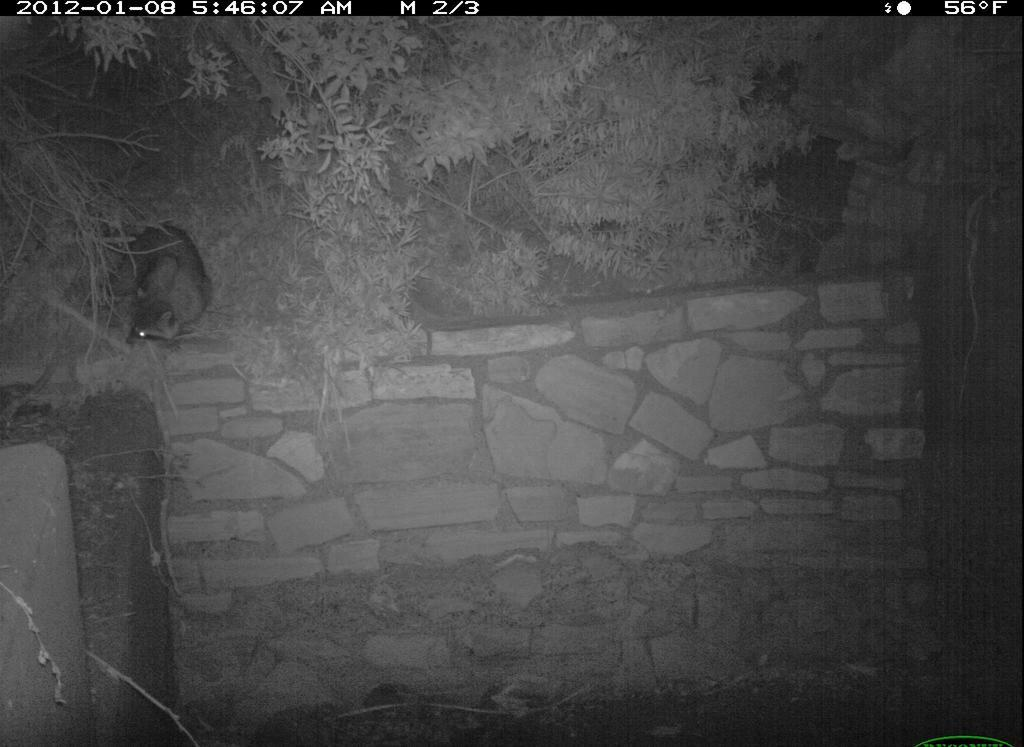raccoon: (104, 217, 227, 356)
